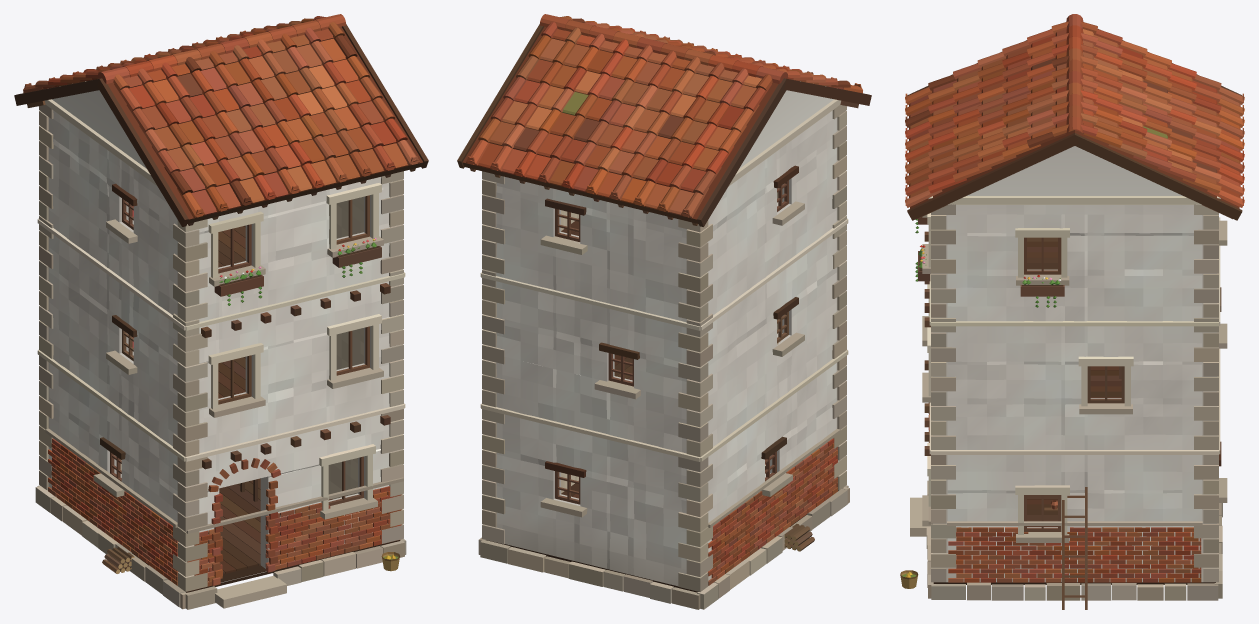
The model's file is pleb_3_3.glb.
3 views of the same model, side by side, from view 1: azimuth 30°, elevation 25°; view 2: azimuth 150°, elevation 25°; view 3: azimuth 270°, elevation 25° (orthographic).
Parts seen in each view (by area): view 1: House, Walls, Rooms; view 2: Walls, House, Rooms; view 3: House, Walls, Rooms.
Part boxes in pixels (x1,y1,x2,y2): House: (14, 14, 428, 609); Walls: (47, 90, 400, 582); Rooms: (120, 196, 363, 574); Walls: (485, 90, 838, 586); House: (457, 14, 871, 609); Rooms: (561, 188, 778, 498); House: (900, 14, 1244, 609); Walls: (933, 146, 1216, 582); Rooms: (1027, 237, 1121, 526).
Size of the model in its own units: 4.42 by 7.76 by 5.1.
Materials: 3 (3 with a texture image).
